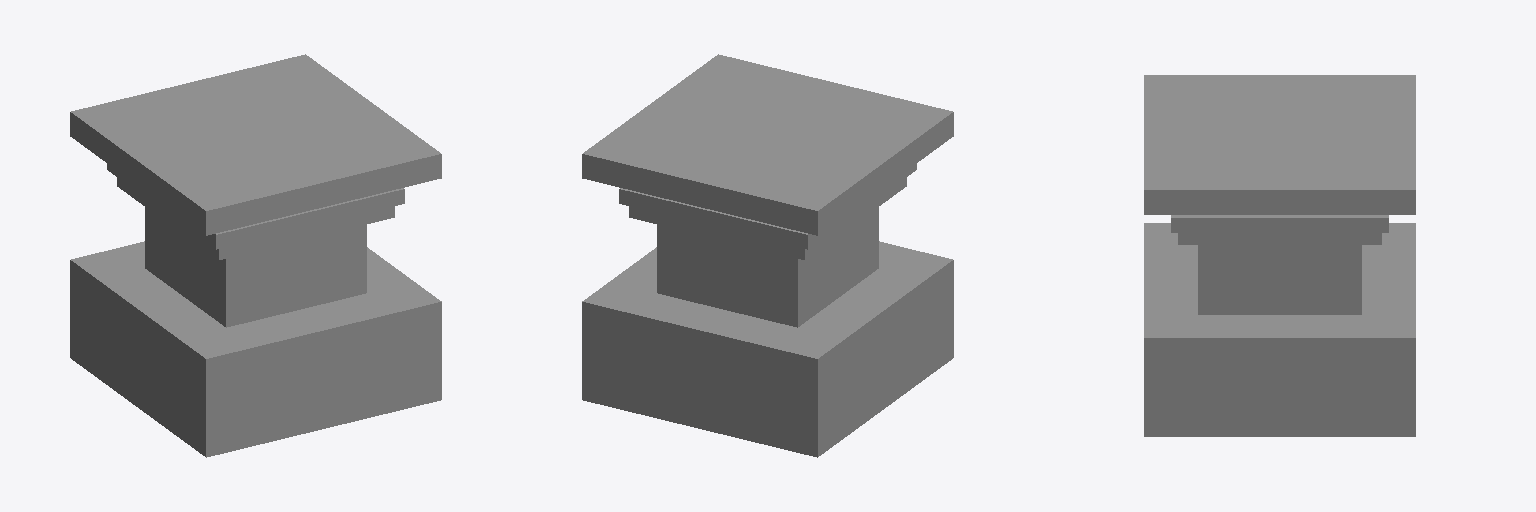
The model's file is RedstonePumpGenerator.obj.
3 renders of one model, left to right at view 1: azimuth 30°, elevation 25°; view 2: azimuth 150°, elevation 25°; view 3: azimuth 270°, elevation 25°, orthographic.
Parts seen in each view (by area): view 1: GeneratorBase_Cube.003, ConnectorPlate_Cube.001, Cube_Cube.004, Generator_Layer2_Cube.008, Generator_Layer1_Cube.002; view 2: GeneratorBase_Cube.003, ConnectorPlate_Cube.001, Cube_Cube.004, Generator_Layer2_Cube.008, Generator_Layer1_Cube.002; view 3: GeneratorBase_Cube.003, ConnectorPlate_Cube.001, Cube_Cube.004, Generator_Layer2_Cube.008, Generator_Layer1_Cube.002.
Boxes of the visible parts, <box> form: GeneratorBase_Cube.003: <box>70,241,441,457</box>; ConnectorPlate_Cube.001: <box>70,54,441,235</box>; Cube_Cube.004: <box>145,207,366,327</box>; Generator_Layer2_Cube.008: <box>107,164,404,249</box>; Generator_Layer1_Cube.002: <box>117,178,394,260</box>; GeneratorBase_Cube.003: <box>582,241,953,457</box>; ConnectorPlate_Cube.001: <box>582,54,953,235</box>; Cube_Cube.004: <box>657,207,878,327</box>; Generator_Layer2_Cube.008: <box>619,164,916,249</box>; Generator_Layer1_Cube.002: <box>629,178,906,260</box>; GeneratorBase_Cube.003: <box>1144,223,1415,436</box>; ConnectorPlate_Cube.001: <box>1144,75,1415,214</box>; Cube_Cube.004: <box>1198,245,1361,314</box>; Generator_Layer2_Cube.008: <box>1171,215,1388,232</box>; Generator_Layer1_Cube.002: <box>1178,233,1381,244</box>.
Size of the model in its own units: 1 by 1 by 1.